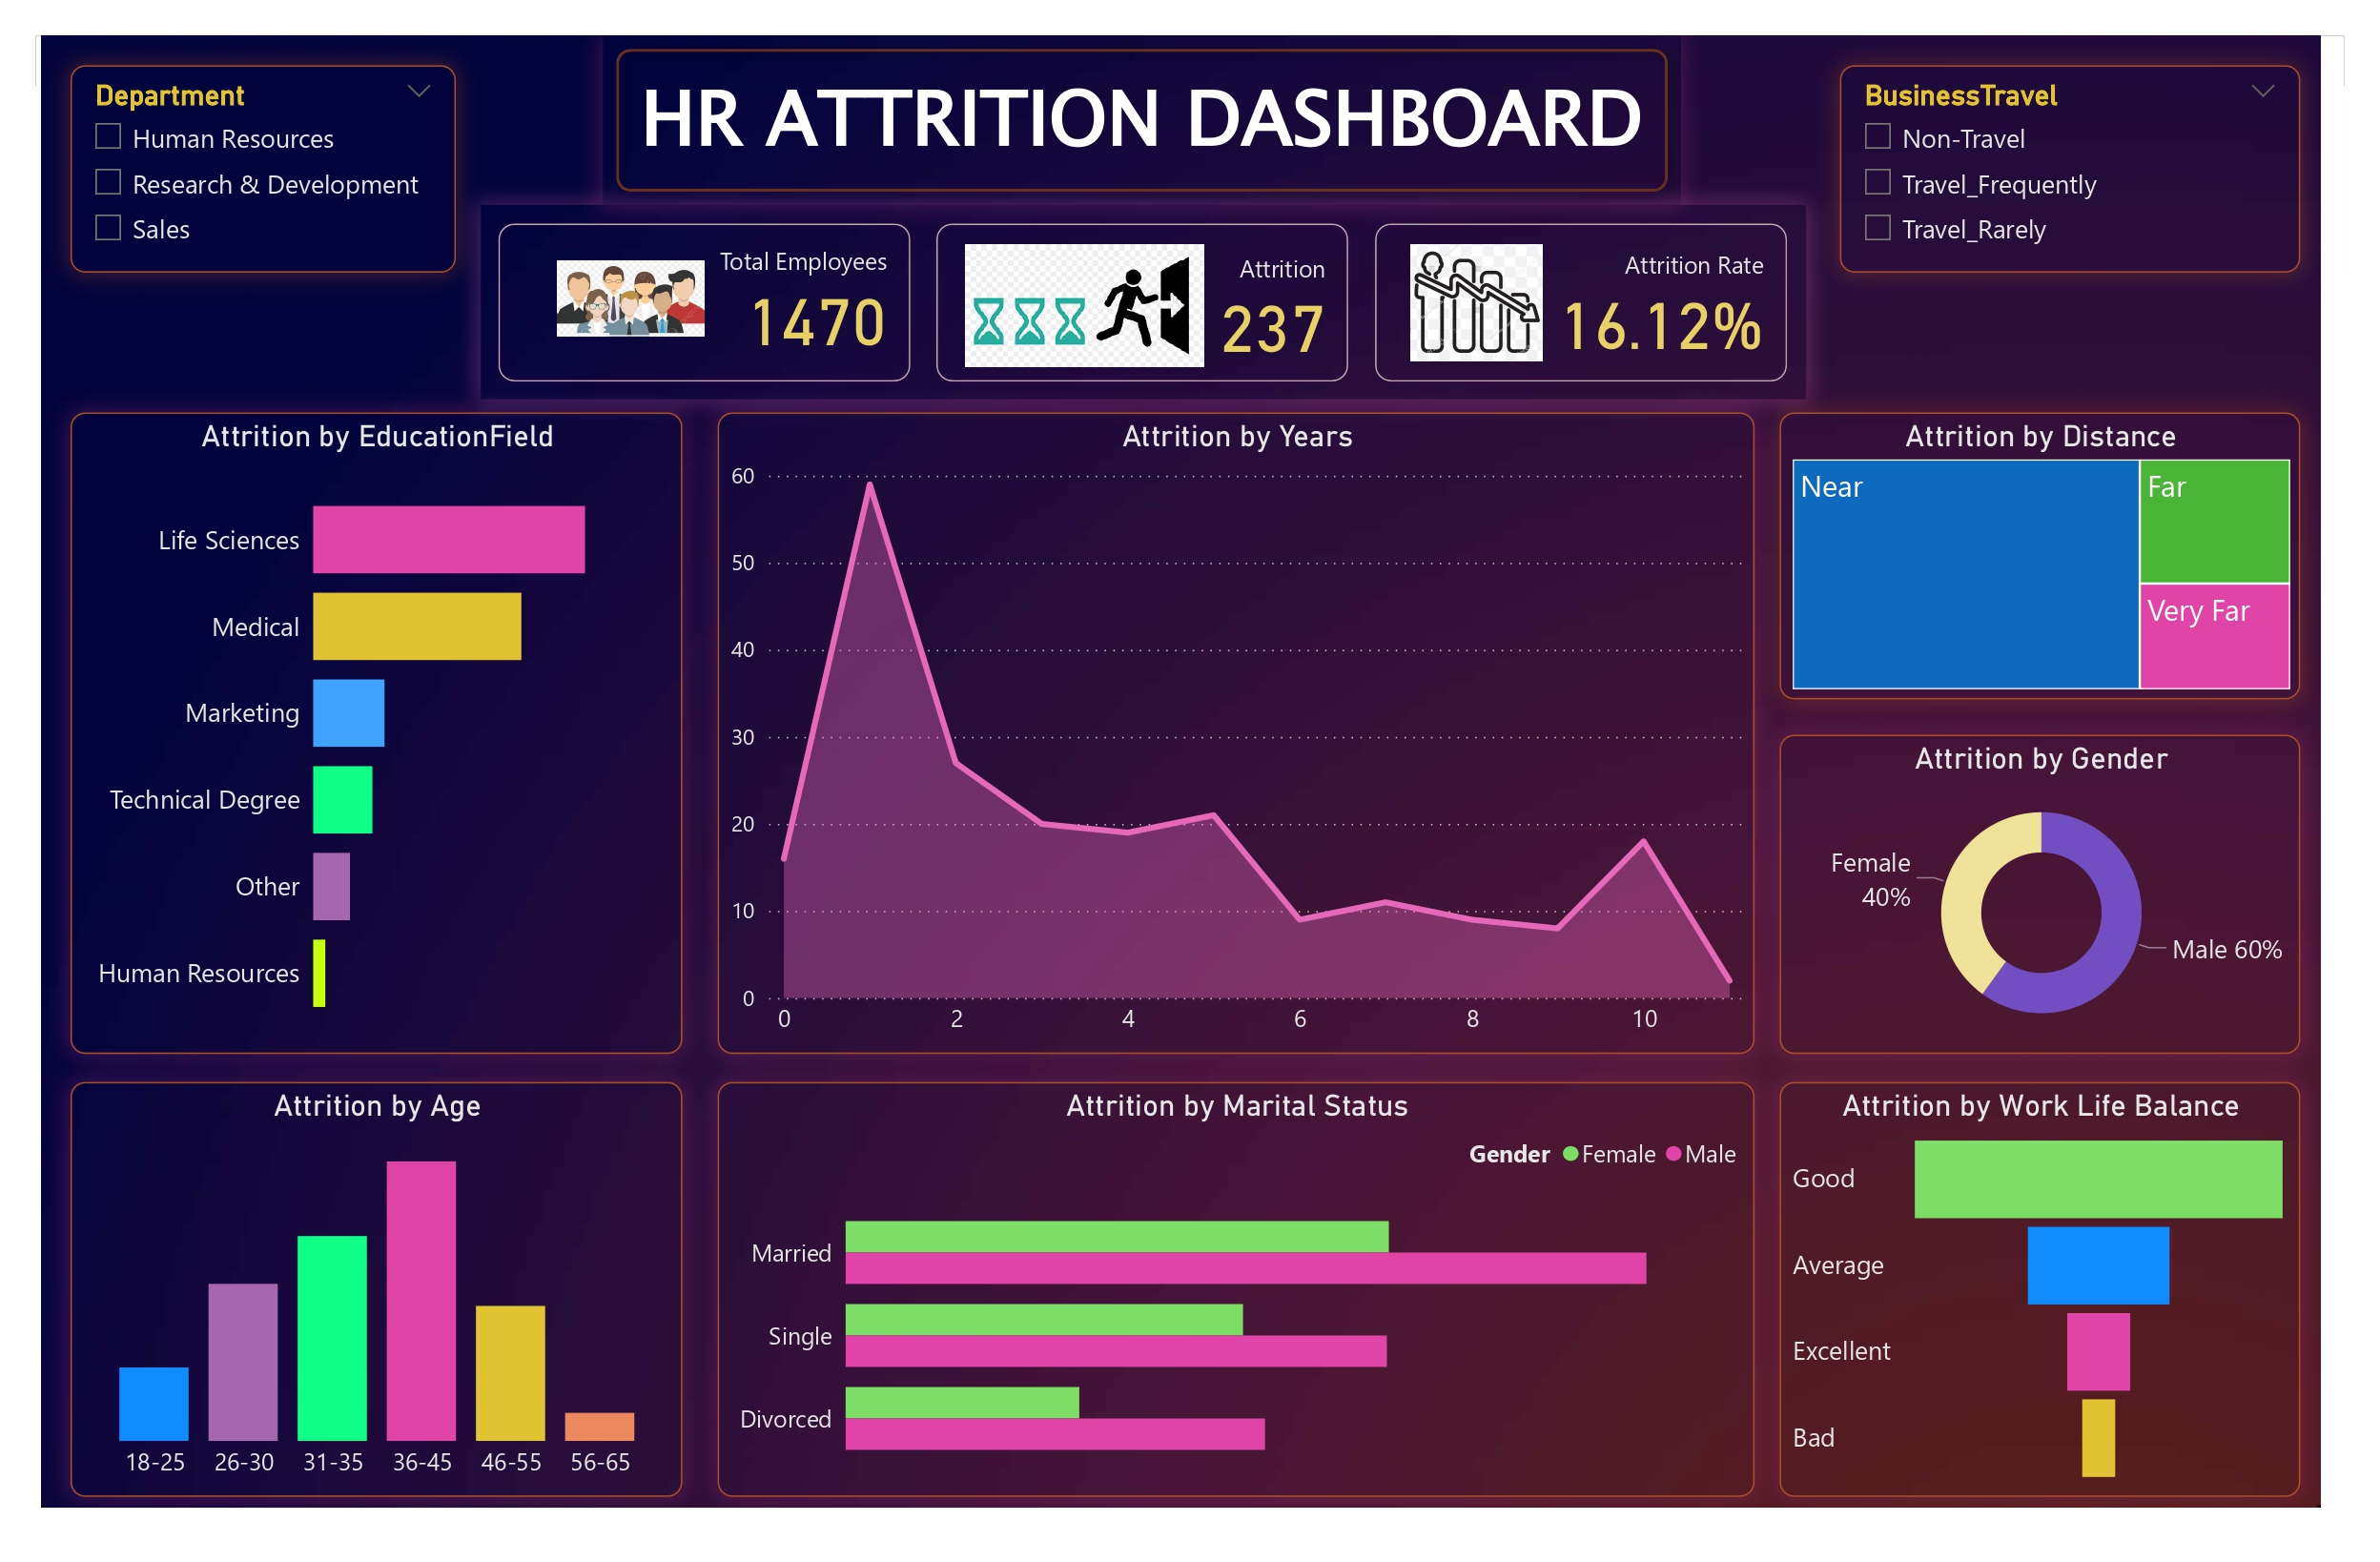

The page's visual inventory and layout, read from the dashboard file:
{"tool":"powerbi","page":{"name":"Page 1","canvas":[1550,1000],"ordinal":0},"visuals":[{"type":"cardVisual","fields":{"Data":["Sum(HR-Employee-Attrition.EmployeeCount)","Sum(HR-Employee-Attrition.Attrition count)","HR-Employee-Attrition.Attrition Rate"]},"box":[299.3,115,900.2,132.3],"z":0},{"type":"shape","box":[381.8,0,733.2,115],"z":1},{"type":"areaChart","title":"Attrition by Years","fields":{"Category":["HR-Employee-Attrition.YearsAtCompany"],"Y":["Sum(HR-Employee-Attrition.Attrition count)"]},"box":[459.9,256,705,436],"z":2},{"type":"donutChart","title":"Attrition by Gender","fields":{"Category":["HR-Employee-Attrition.Gender"],"Y":["CountNonNull(HR-Employee-Attrition.Attrition)"]},"box":[1182.2,475.1,353.6,216.9],"z":3},{"type":"barChart","title":"Attrition by EducationField","fields":{"Y":["CountNonNull(HR-Employee-Attrition.Attrition)"],"Category":["HR-Employee-Attrition.EducationField"]},"box":[19.5,256,416.5,436],"z":4},{"type":"columnChart","title":"Attrition by Age","fields":{"Category":["HR-Employee-Attrition.Age group"],"Y":["CountNonNull(HR-Employee-Attrition.Attrition)"]},"box":[19.5,711.5,416.5,282],"z":5},{"type":"clusteredBarChart","title":"Attrition by Marital Status","fields":{"Series":["HR-Employee-Attrition.Gender"],"Category":["HR-Employee-Attrition.MaritalStatus"],"Y":["CountNonNull(HR-Employee-Attrition.Attrition)"]},"box":[459.9,711.5,705,282],"z":6},{"type":"treemap","title":"Attrition by Distance","fields":{"Group":["HR-Employee-Attrition.Distance group"],"Values":["CountNonNull(HR-Employee-Attrition.Attrition)"]},"box":[1182.2,256,353.6,195.2],"z":7},{"type":"funnel","title":"Attrition by Work Life Balance","fields":{"Category":["HR-Employee-Attrition.WLB"],"Y":["CountNonNull(HR-Employee-Attrition.Attrition)"]},"box":[1182.2,711.5,353.6,282],"z":8},{"type":"slicer","fields":{"Values":["HR-Employee-Attrition.Department"]},"box":[19.5,19.5,262.5,141],"z":9},{"type":"slicer","fields":{"Values":["HR-Employee-Attrition.BusinessTravel"]},"box":[1223.4,19.5,312.4,141],"z":10}]}

Visuals, with their boxes on the page's 1550x1000 design canvas (x1, y1, x2, y2). These are canvas units, not pixel positions in the 2380x1562 screenshot, which may show the page scaled, cropped or inside an application window:
cardVisual - Sum(HR-Employee-Attrition.EmployeeCount) x Sum(HR-Employee-Attrition.Attrition count): bbox(299, 115, 1200, 247)
shape: bbox(382, 0, 1115, 115)
"Attrition by Years" areaChart: bbox(460, 256, 1165, 692)
"Attrition by Gender" donutChart: bbox(1182, 475, 1536, 692)
"Attrition by EducationField" barChart: bbox(20, 256, 436, 692)
"Attrition by Age" columnChart: bbox(20, 712, 436, 994)
"Attrition by Marital Status" clusteredBarChart: bbox(460, 712, 1165, 994)
"Attrition by Distance" treemap: bbox(1182, 256, 1536, 451)
"Attrition by Work Life Balance" funnel: bbox(1182, 712, 1536, 994)
slicer - HR-Employee-Attrition.Department: bbox(20, 20, 282, 160)
slicer - HR-Employee-Attrition.BusinessTravel: bbox(1223, 20, 1536, 160)
